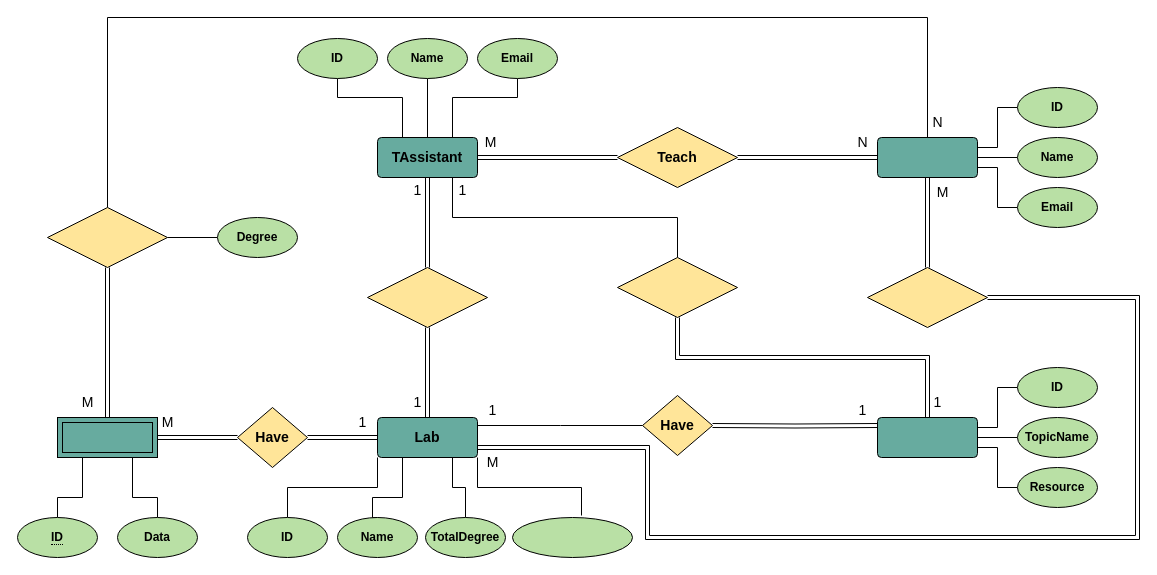
Image size: 1157x575. Some labels were removed from this diagram. The centre of each missing label's shape, as x and y in pixels:
"Agenda" belongs at point 927,437.
"Attend" belongs at point 107,237.
"Contain" belongs at point 927,297.
"Create" belongs at point 677,287.
"Manage" belongs at point 427,297.
"NumOfSessions" belongs at point 572,537.
"Session" belongs at point 107,437.
"Student" belongs at point 927,157.
